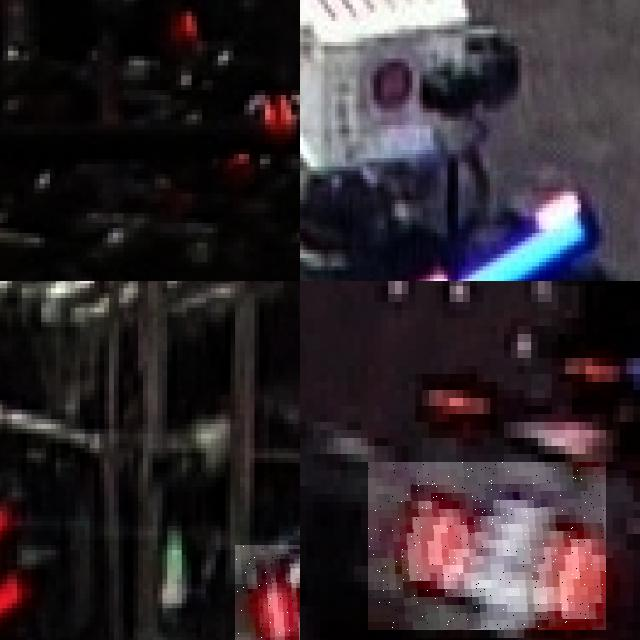R2: (235, 545, 300, 640)
R4: (368, 462, 606, 630)
